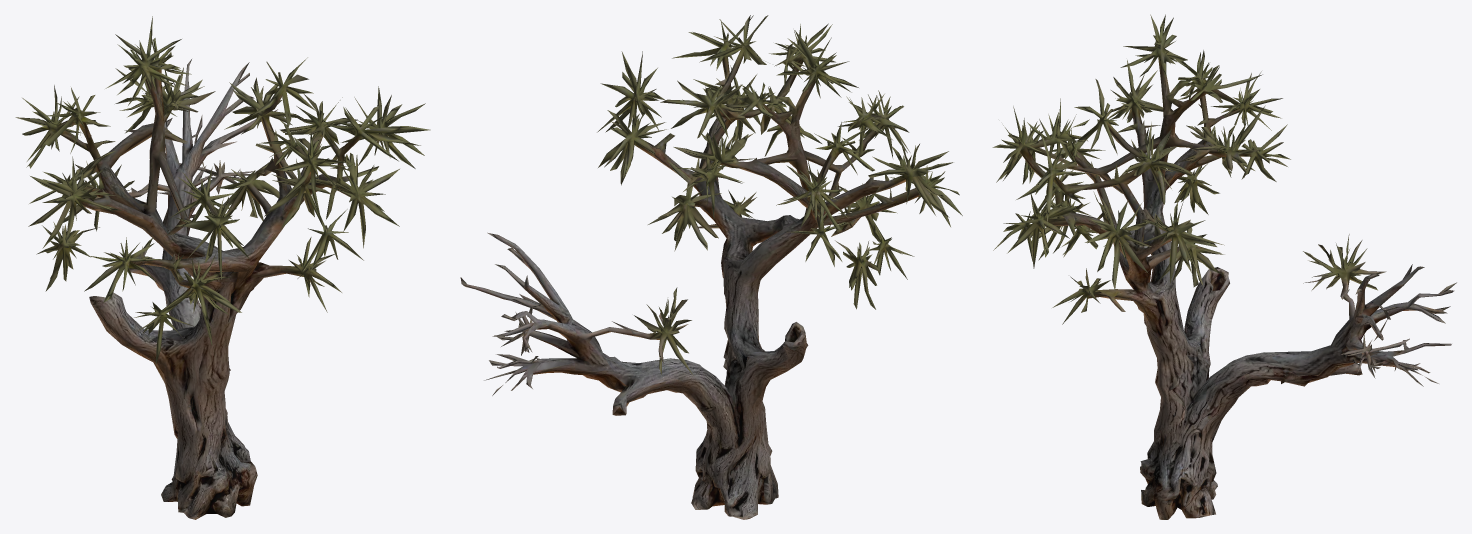
Rendered from acacia-2.glb.
The picture shows the model from 3 angles, left to right: view 1: azimuth 30°, elevation 25°; view 2: azimuth 150°, elevation 25°; view 3: azimuth 270°, elevation 25°; orthographic projection. The views are drawn at different scales.
Parts seen in each view (by area): view 1: tripo_node_7398e3d6-dbda-4069-9cae-332571257e59; view 2: tripo_node_7398e3d6-dbda-4069-9cae-332571257e59; view 3: tripo_node_7398e3d6-dbda-4069-9cae-332571257e59.
Part boxes in pixels (<box>): tripo_node_7398e3d6-dbda-4069-9cae-332571257e59: <box>15,16,430,519</box>; tripo_node_7398e3d6-dbda-4069-9cae-332571257e59: <box>460,15,962,519</box>; tripo_node_7398e3d6-dbda-4069-9cae-332571257e59: <box>992,14,1456,519</box>.
Bounding box in the file's own units: 0.7714 × 1 × 0.9096.
1 material, 1 textured.
